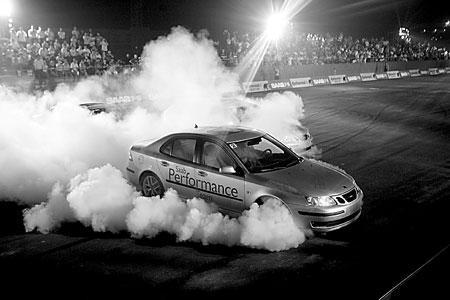smoke: (1, 95, 127, 231)
smoke1: (141, 31, 305, 132)
